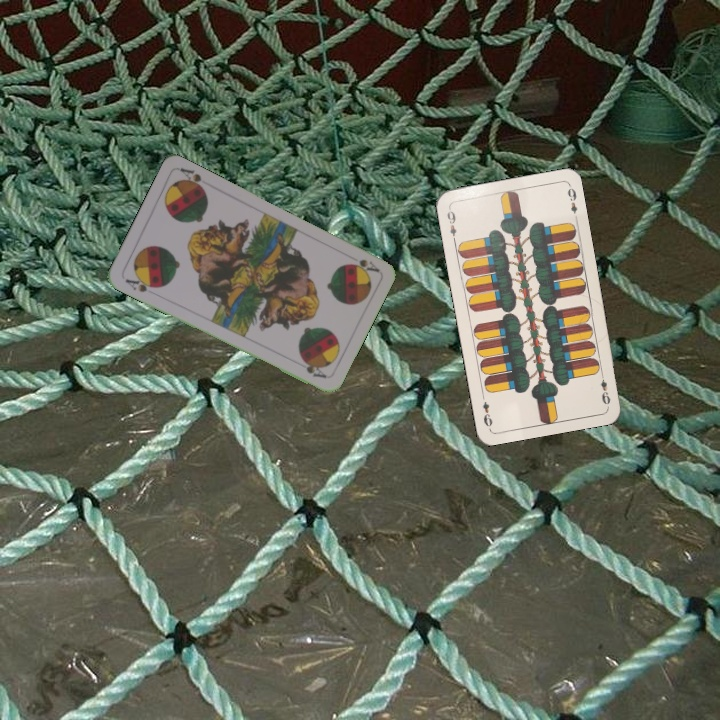E9: (596, 368, 613, 407), (443, 204, 459, 244)
SA: (121, 273, 161, 295), (346, 255, 382, 275)
